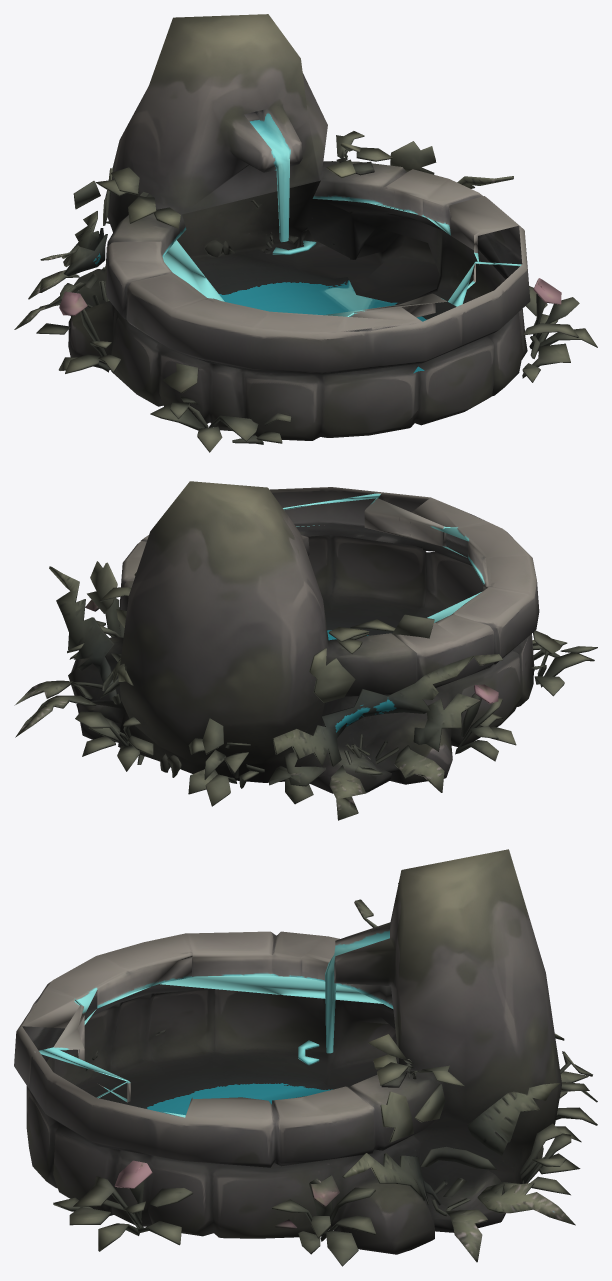
3 views of the same model, one above another, from view 1: azimuth 30°, elevation 25°; view 2: azimuth 150°, elevation 25°; view 3: azimuth 270°, elevation 25° (orthographic). The views are drawn at different scales.
Visible parts, largest first — view 1: spring-basalt; view 2: spring-basalt; view 3: spring-basalt.
Part boxes in pixels (x1,y1,x2,y2): spring-basalt: (14,14,597,452); spring-basalt: (14,481,597,820); spring-basalt: (14,849,597,1266).
Bounding box in the file's own units: 0.998 × 0.5499 × 0.9883.
Materials: 1 (1 with a texture image).
